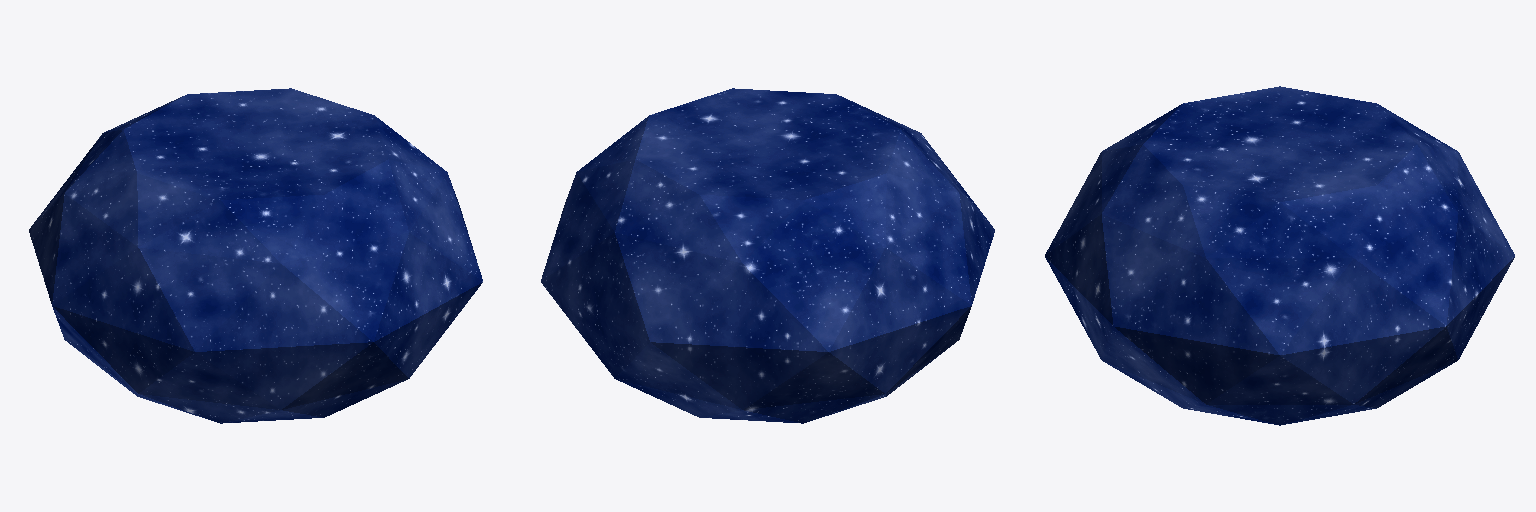
3 views of the same model, side by side, from view 1: azimuth 30°, elevation 25°; view 2: azimuth 150°, elevation 25°; view 3: azimuth 270°, elevation 25° (orthographic).
Parts seen in each view (by area): view 1: world_root; view 2: world_root; view 3: world_root.
Part boxes in pixels (x1,y1,x2,y2): world_root: (29,88,482,423); world_root: (541,88,994,423); world_root: (1045,86,1514,425).
Bounding box in the file's own units: 47.19 × 24.68 × 47.19.
Materials: 1 (1 with a texture image).